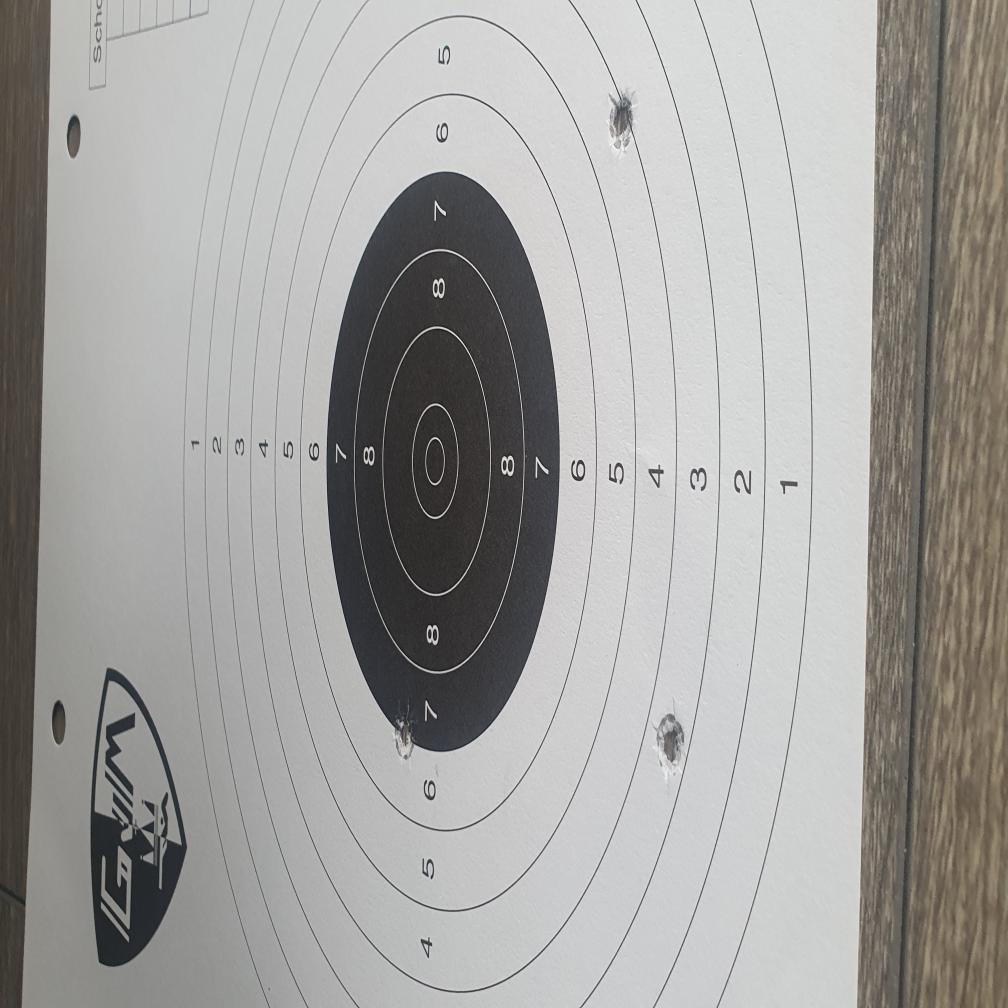3: (655, 703, 688, 786)
4: (606, 83, 636, 160)
7: (394, 706, 414, 764)
Target: (181, 0, 812, 1008)
black_contour: (327, 171, 561, 754)
